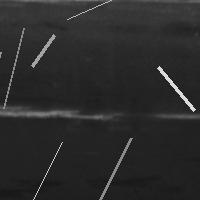scratches: (16, 137, 67, 200), (90, 133, 136, 200), (1, 100, 123, 124), (0, 23, 29, 113), (153, 62, 199, 115), (62, 0, 134, 24), (27, 30, 59, 71), (151, 108, 199, 124), (0, 47, 5, 127)
